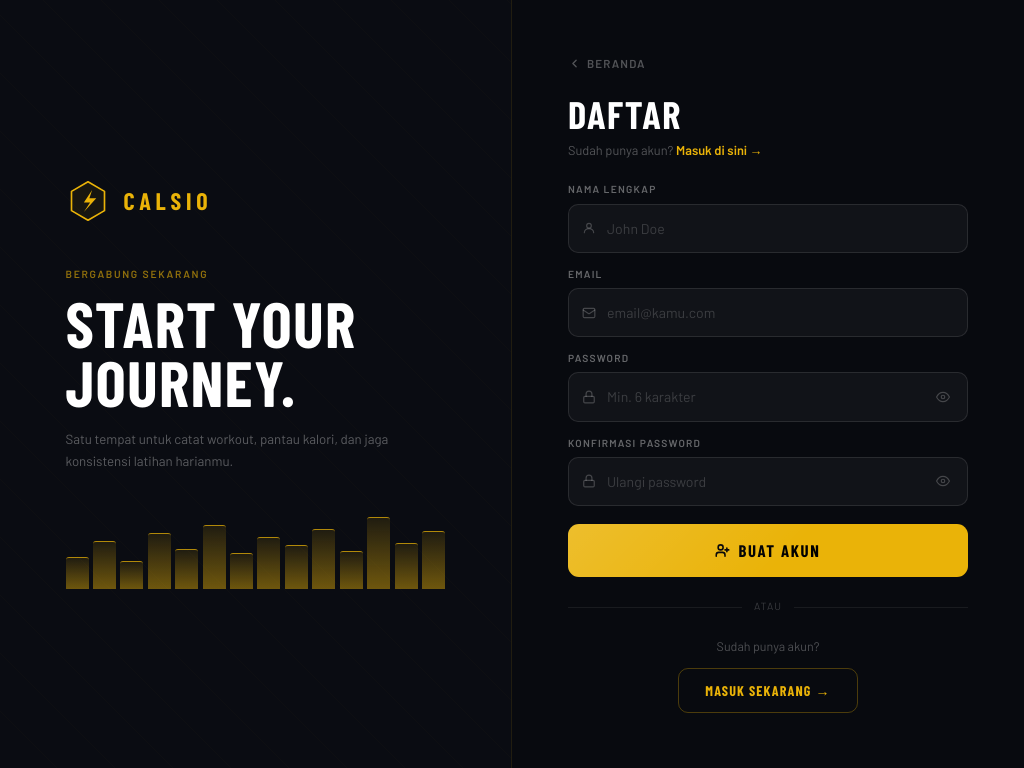
Test: Auth - Register Flow › validasi password tidak cocok
Type "Test User" into the field with placeholder "John Doe".
click(768, 229); type("Test User")  # box left=569, top=205, right=967, bottom=252
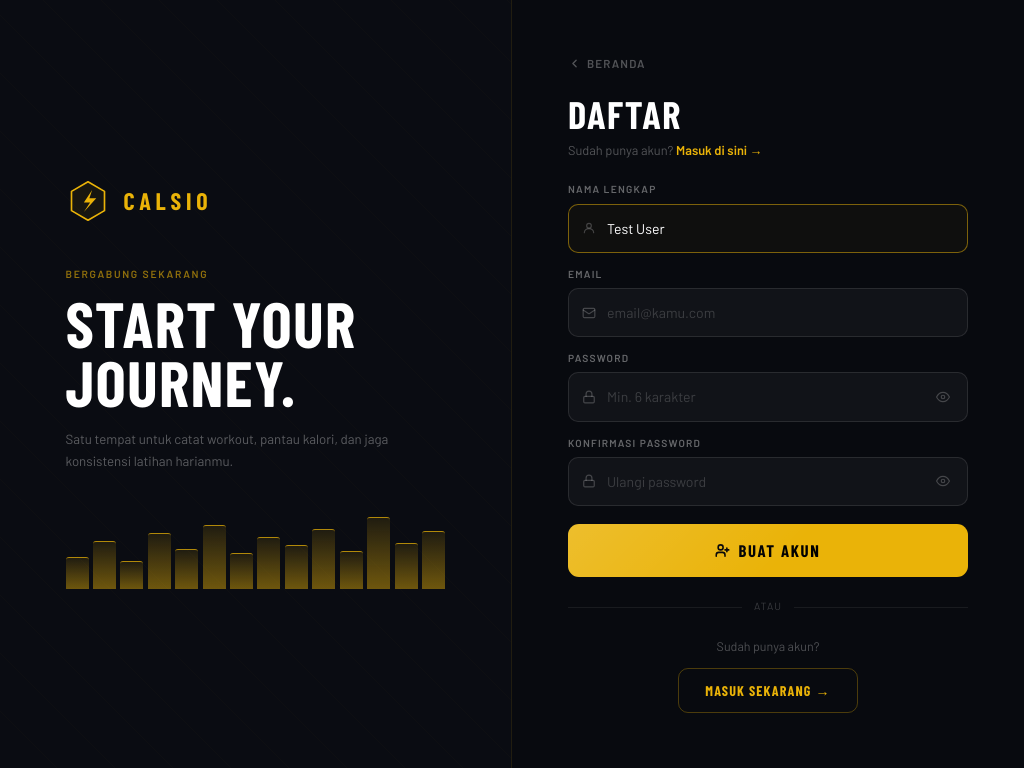
Type "test@gmail.com" into the field with placeholder "email@kamu.com".
click(768, 313); type("test@gmail.com")  # box left=569, top=289, right=967, bottom=336
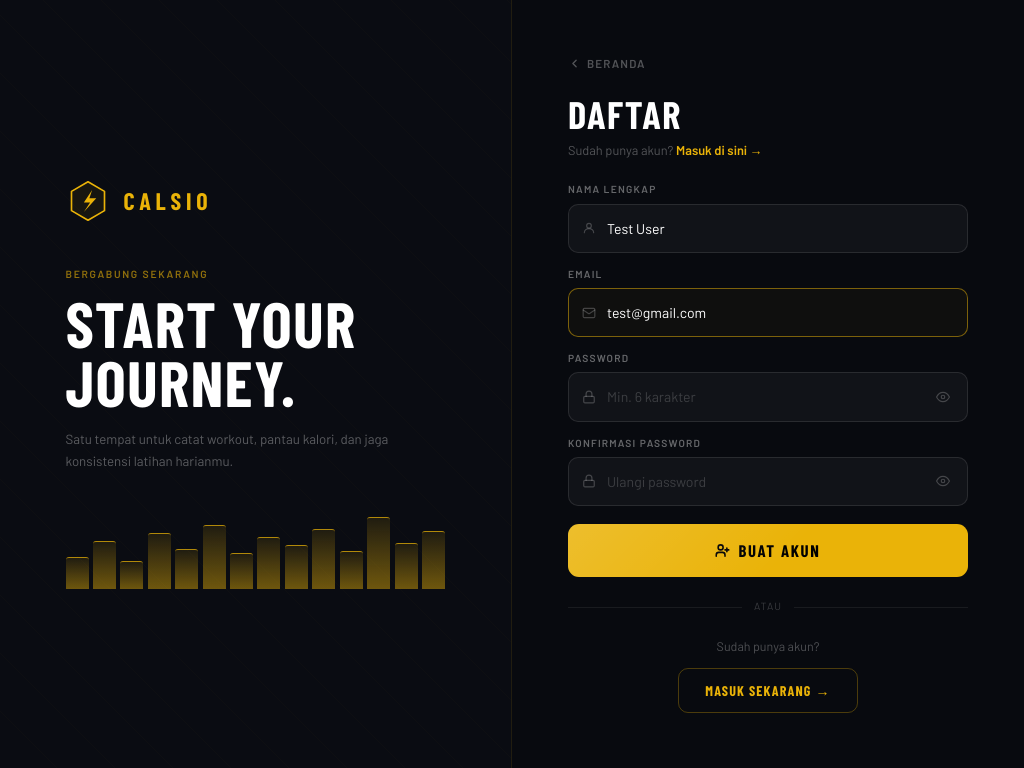
Type "password123" into the password field with placeholder "Min. 6 karakter".
click(768, 398); type("password123")  # box left=569, top=374, right=967, bottom=421
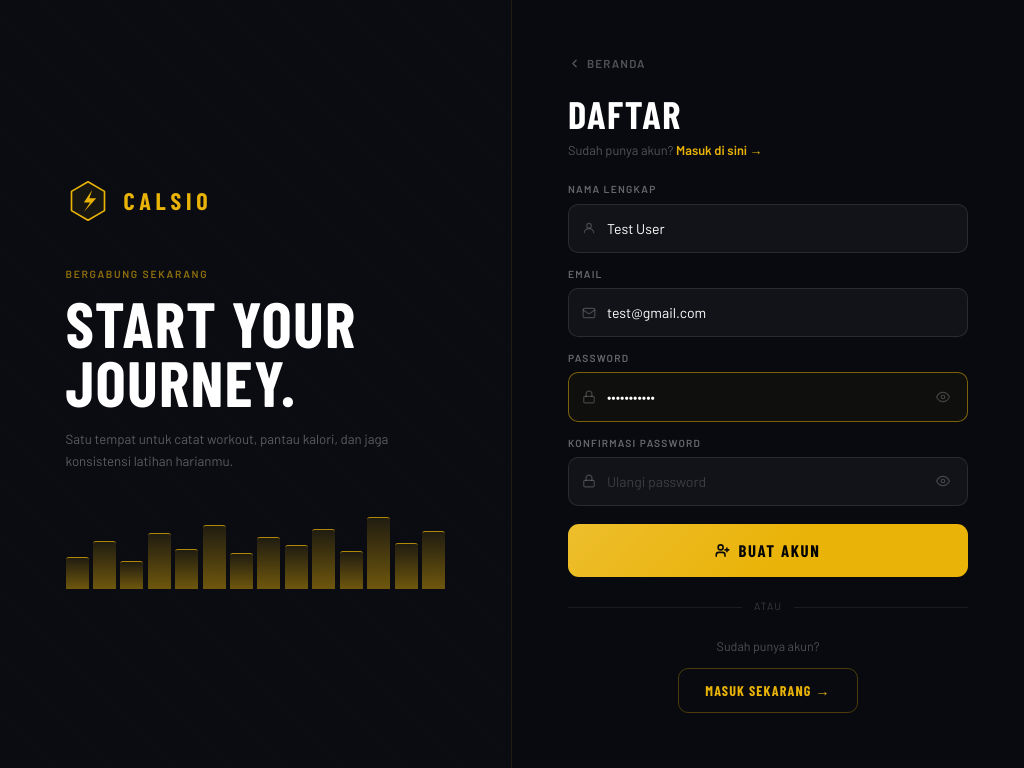
Type "passwordbeda" into the password field with placeholder "Ulangi password".
click(768, 482); type("passwordbeda")  # box left=569, top=458, right=967, bottom=505
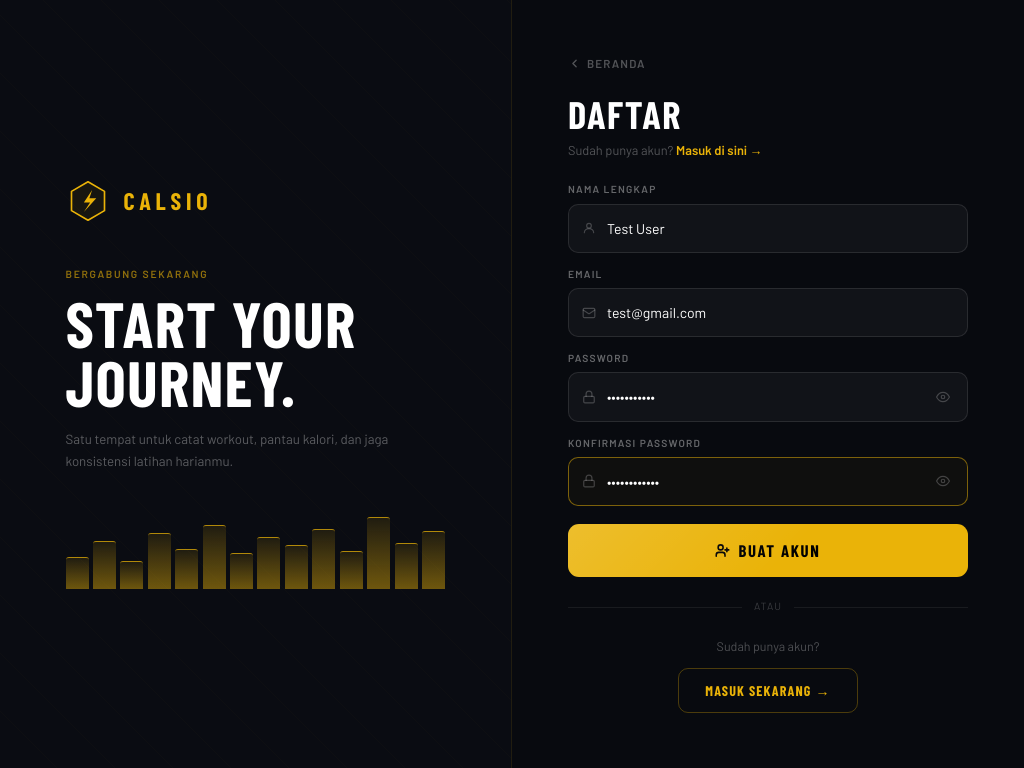
Click the button "Buat Akun".
click(768, 551)  # box left=568, top=524, right=968, bottom=577
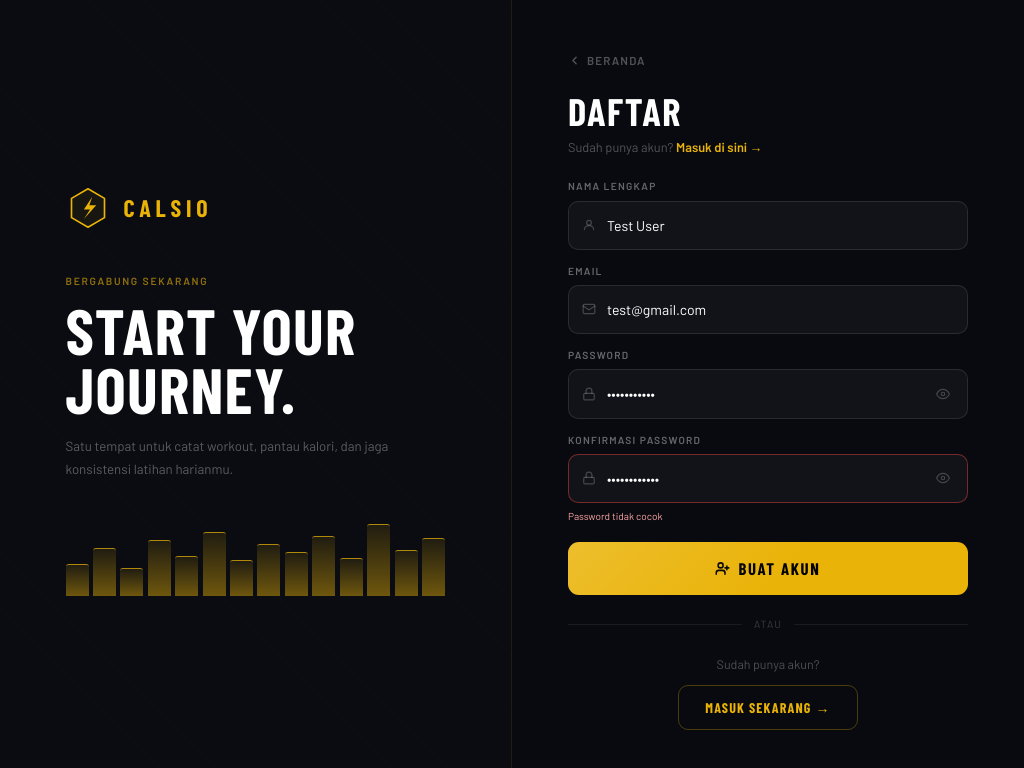
Expected: the text "Password tidak cocok" is shown, left=568, top=510, right=662, bottom=522
